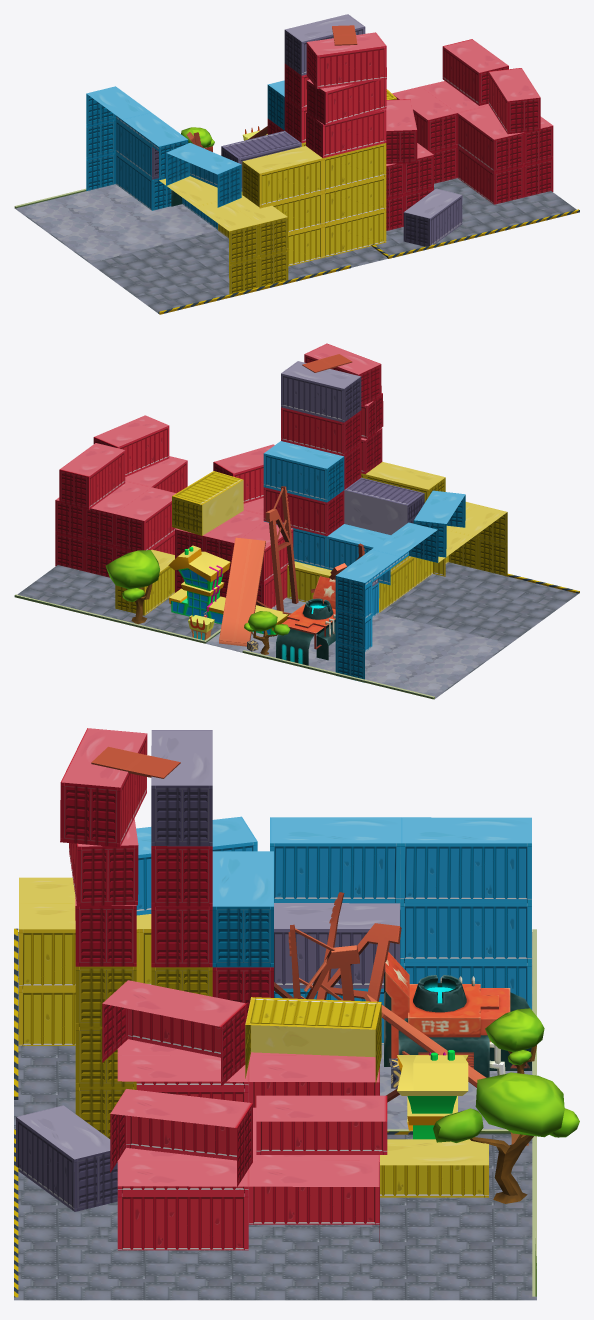
Rendered from scene_citytocontainer_01.FBX.
The picture shows the model from 3 angles, top to bottom: view 1: azimuth 30°, elevation 25°; view 2: azimuth 150°, elevation 25°; view 3: azimuth 270°, elevation 25°; orthographic projection. The views are drawn at different scales.
Parts seen in each view (by area): view 1: scene_citytocontainer_01; view 2: scene_citytocontainer_01; view 3: scene_citytocontainer_01.
Boxes of the visible parts, x1,y1,x2,y2 form: scene_citytocontainer_01: (14,14,579,314); scene_citytocontainer_01: (14,343,579,699); scene_citytocontainer_01: (14,728,579,1300).
Size of the model in its own units: 10092 by 4840 by 6493.
